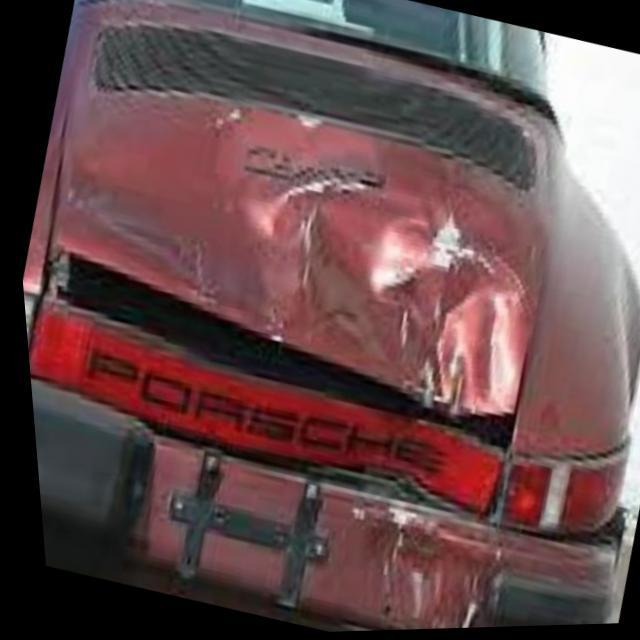dent: (51, 165, 532, 632)
